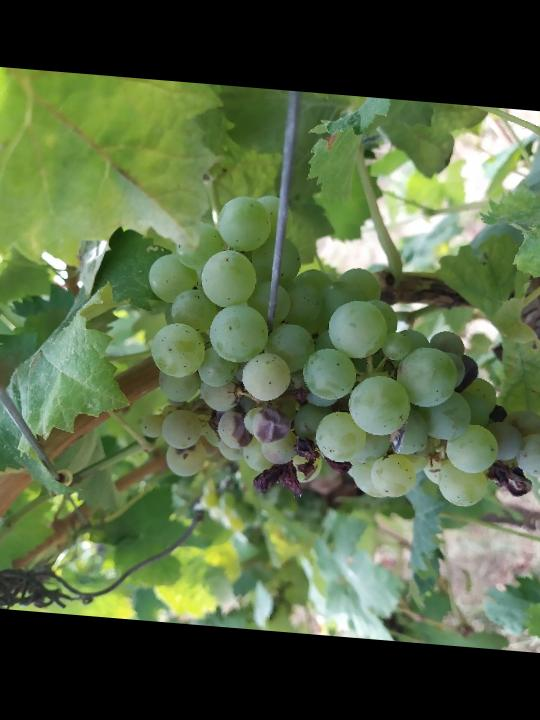grape: (128, 182, 540, 523)
